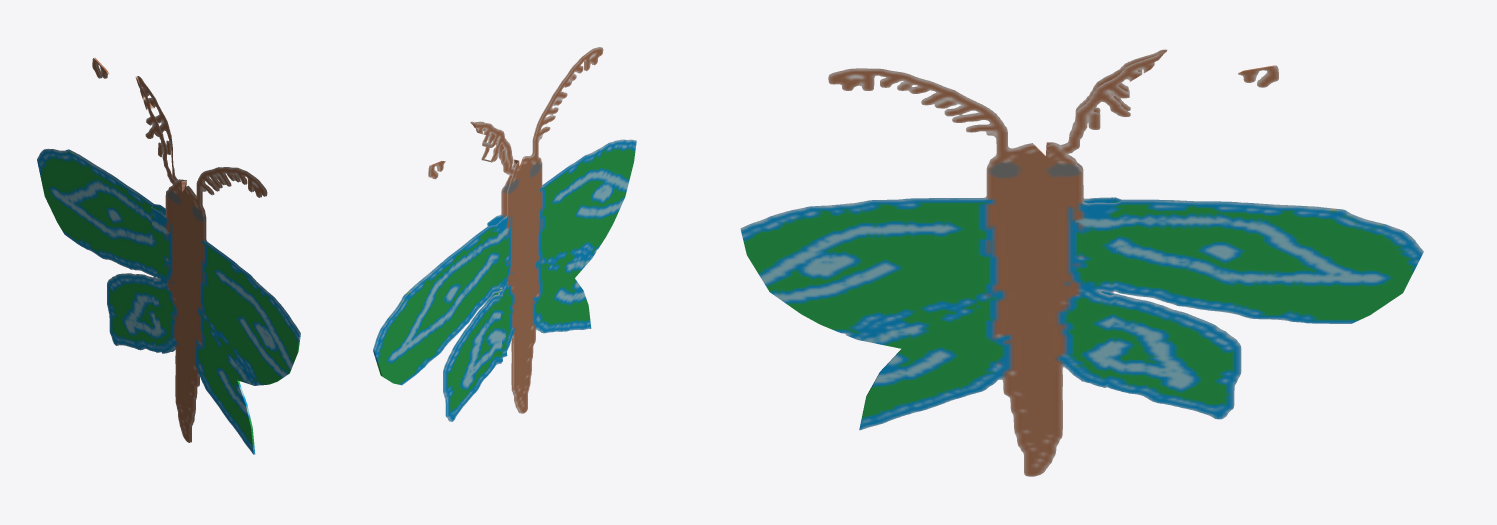
The model's file is another_moth.fbx.
3 views of the same model, side by side, from view 1: azimuth 30°, elevation 25°; view 2: azimuth 150°, elevation 25°; view 3: azimuth 270°, elevation 25° (orthographic). The views are drawn at different scales.
Parts seen in each view (by area): view 1: moth_green; view 2: moth_green; view 3: moth_green.
Part boxes in pixels (left/top/right/bottom): moth_green: left=37, top=57, right=300, bottom=454; moth_green: left=373, top=47, right=636, bottom=421; moth_green: left=740, top=49, right=1423, bottom=476.
Bounding box in the file's own units: 0.024 × 0.9638 × 1.4.
1 material, 1 textured.
